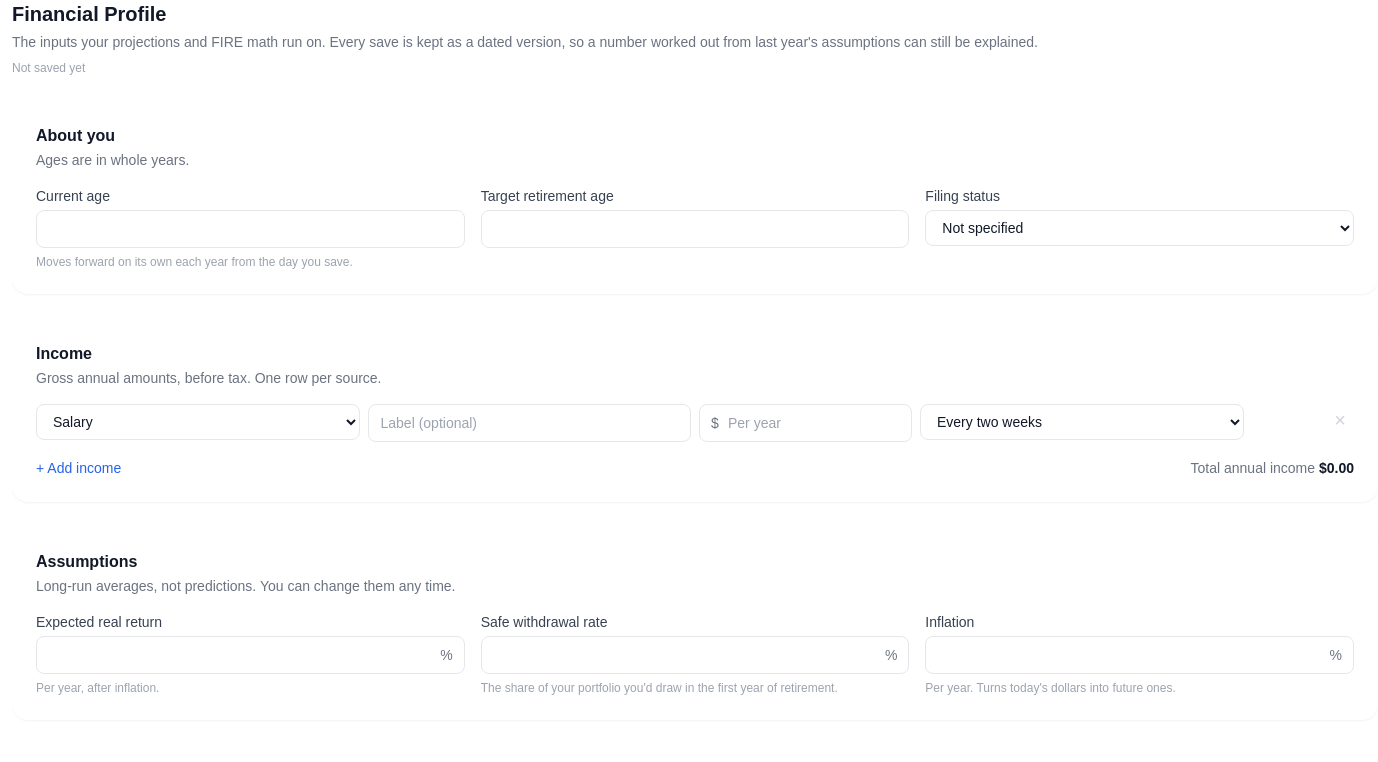
FinancialProfileClient — before the first save › sends the parsed profile and reports the new version
Type "34" into the field labelled "Current age" at (250, 229), box [36,210,465,248]
Type "50" into the field labelled "Target retirement age" at (695, 229), box [481,210,909,248]
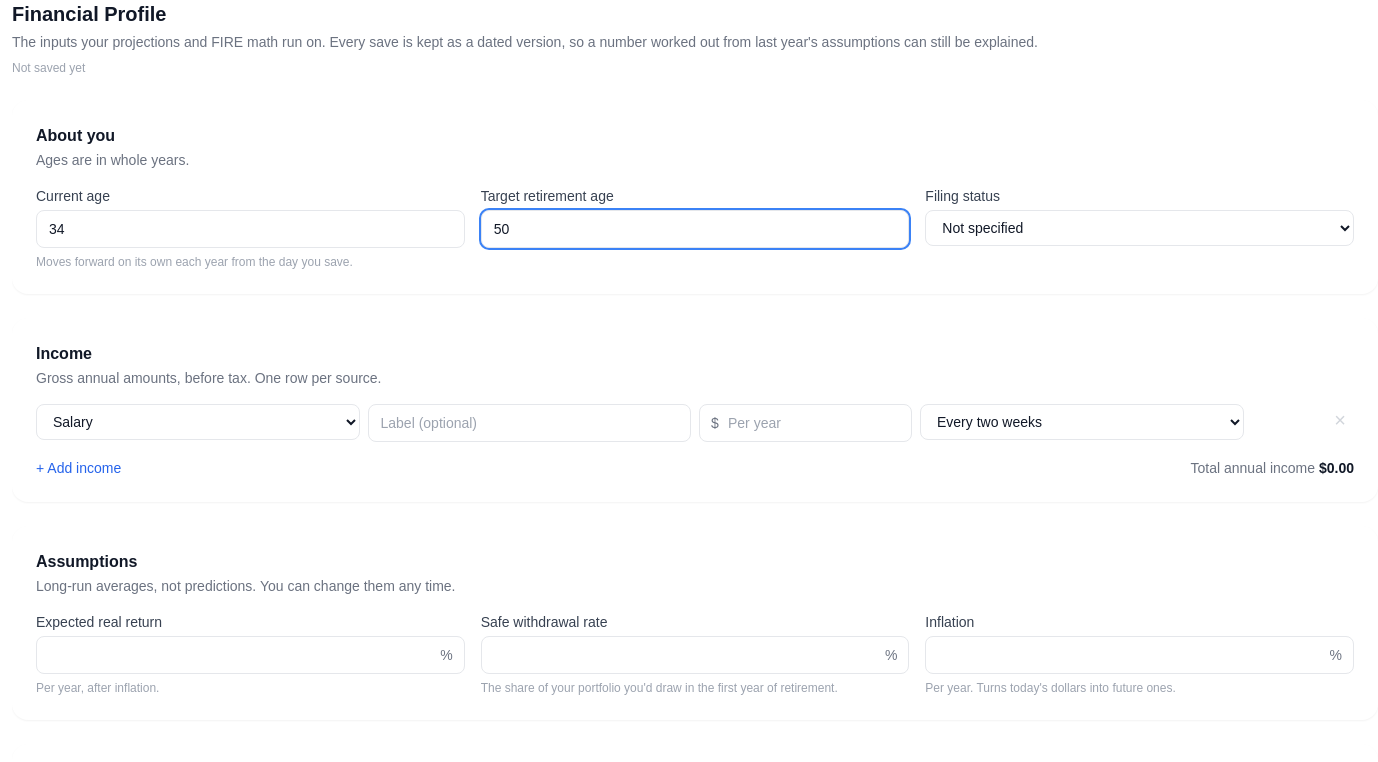
Type "5" into the field labelled "Expected real return" at (250, 655), box [36,636,465,674]
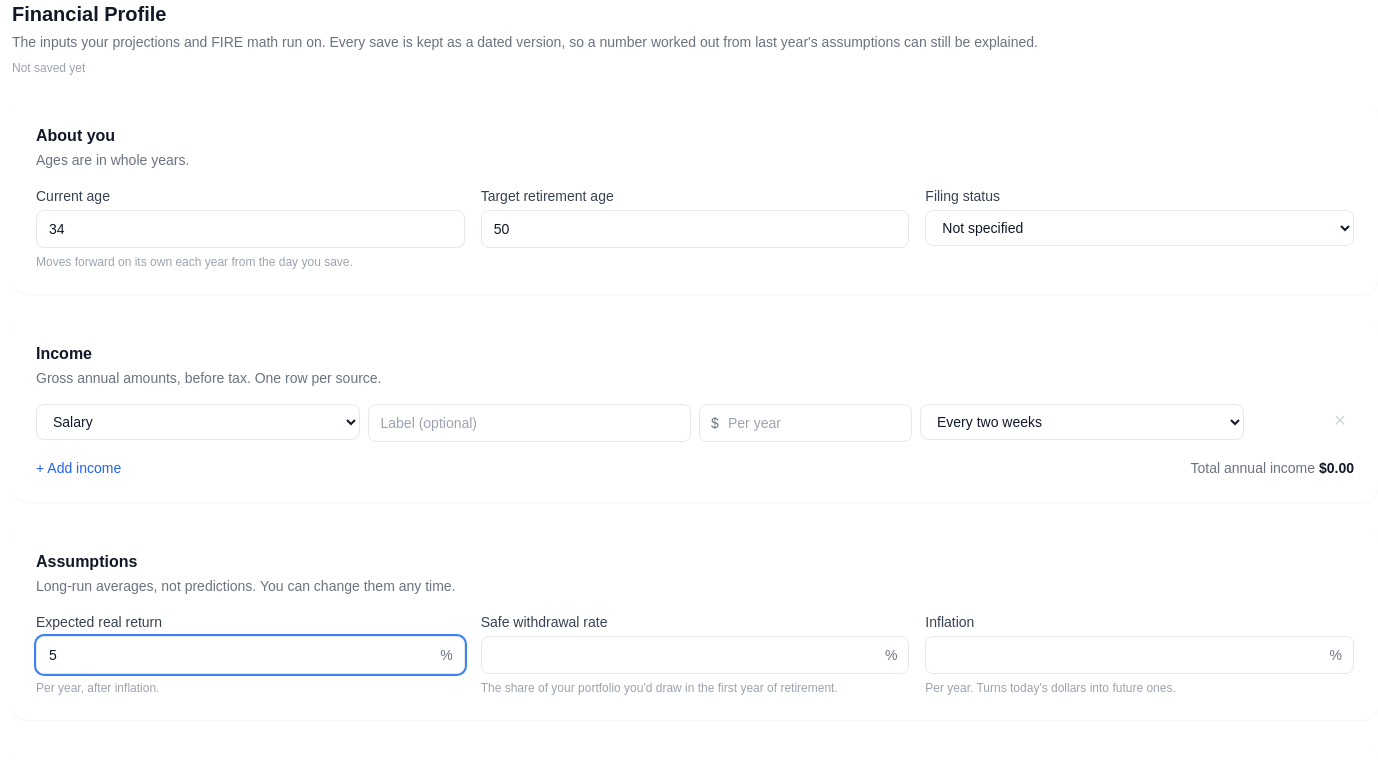
Type "3.5" into the field labelled "Safe withdrawal rate" at (695, 655), box [481,636,909,674]
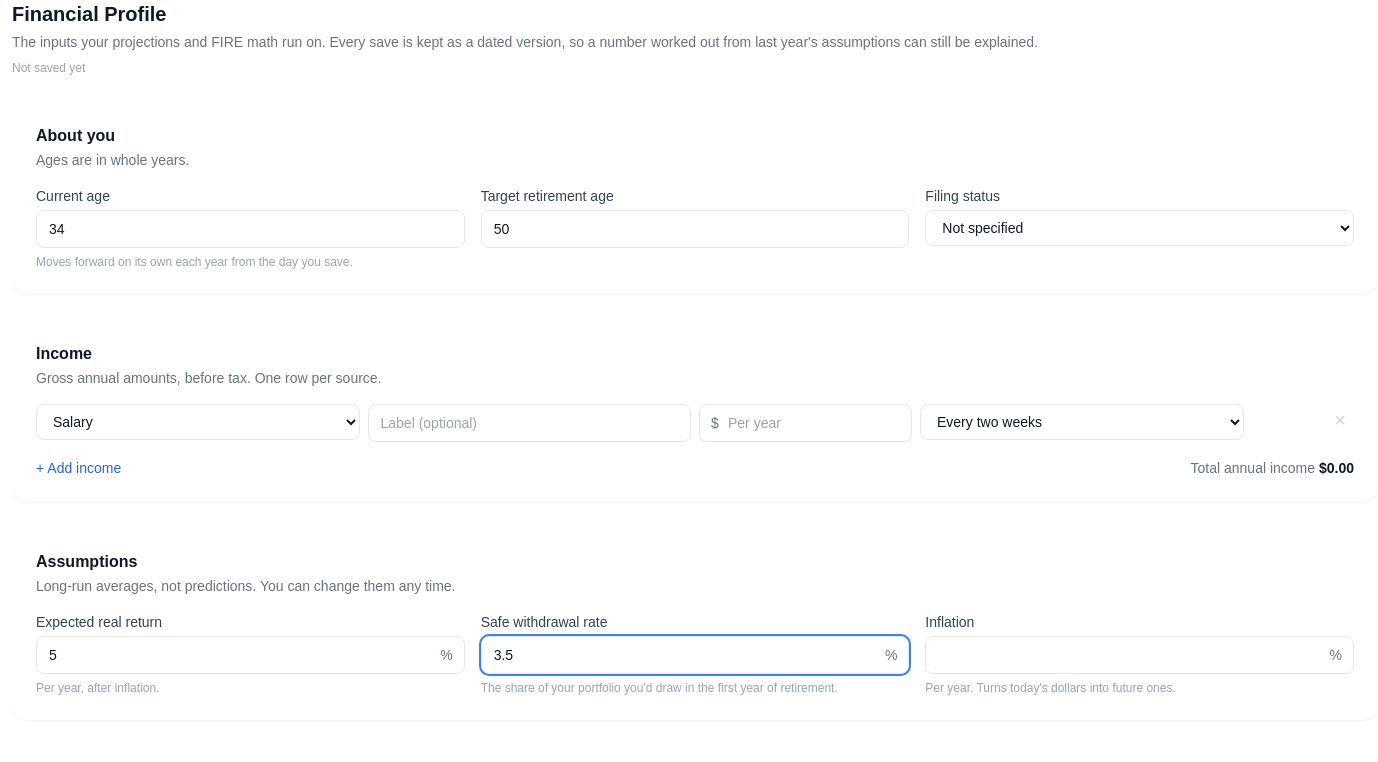
Type "2.5" into the field labelled "Inflation" at (1140, 655), box [925,636,1354,674]
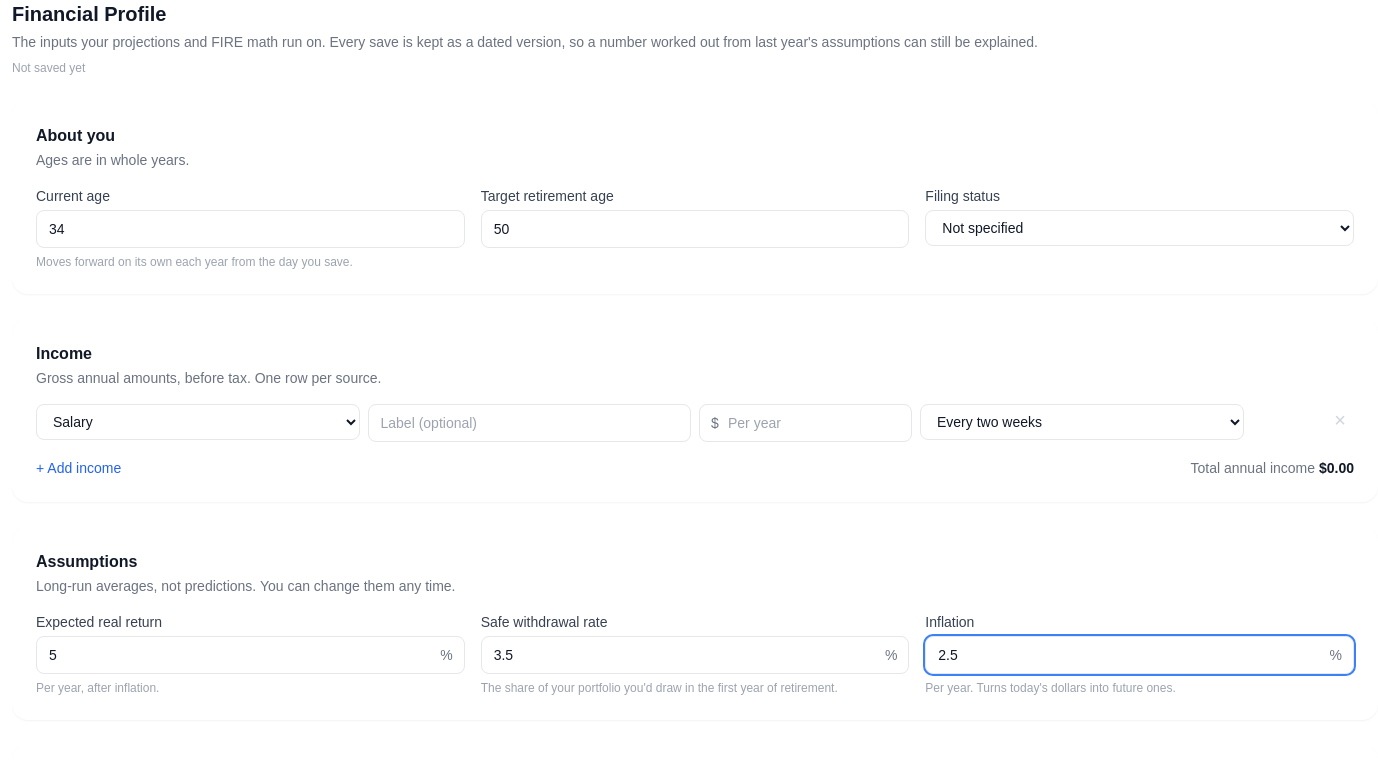
Type "90,000" into the field named "Income 1 annual amount" at (806, 423), box [699,404,912,442]
(page scrolled)
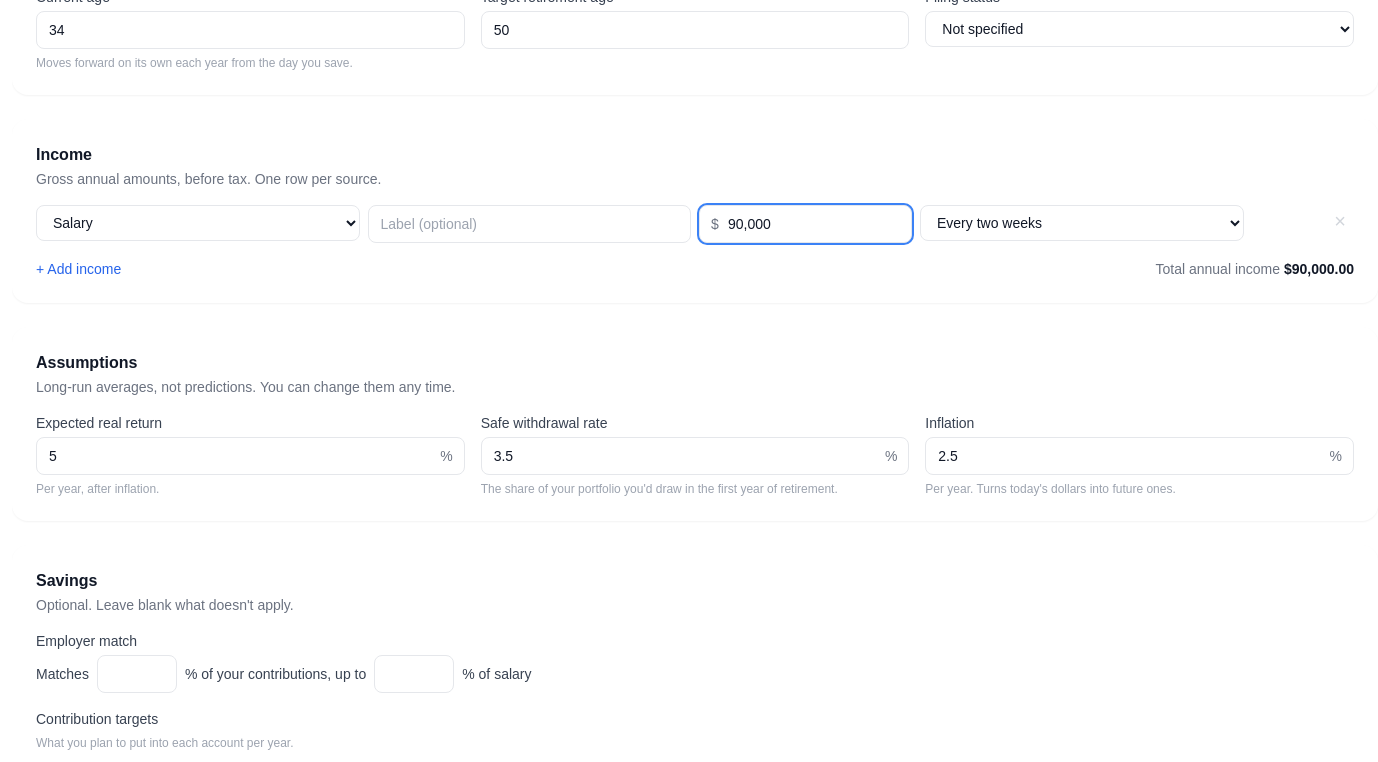
Submit the form named "Save profile"
(page scrolled)
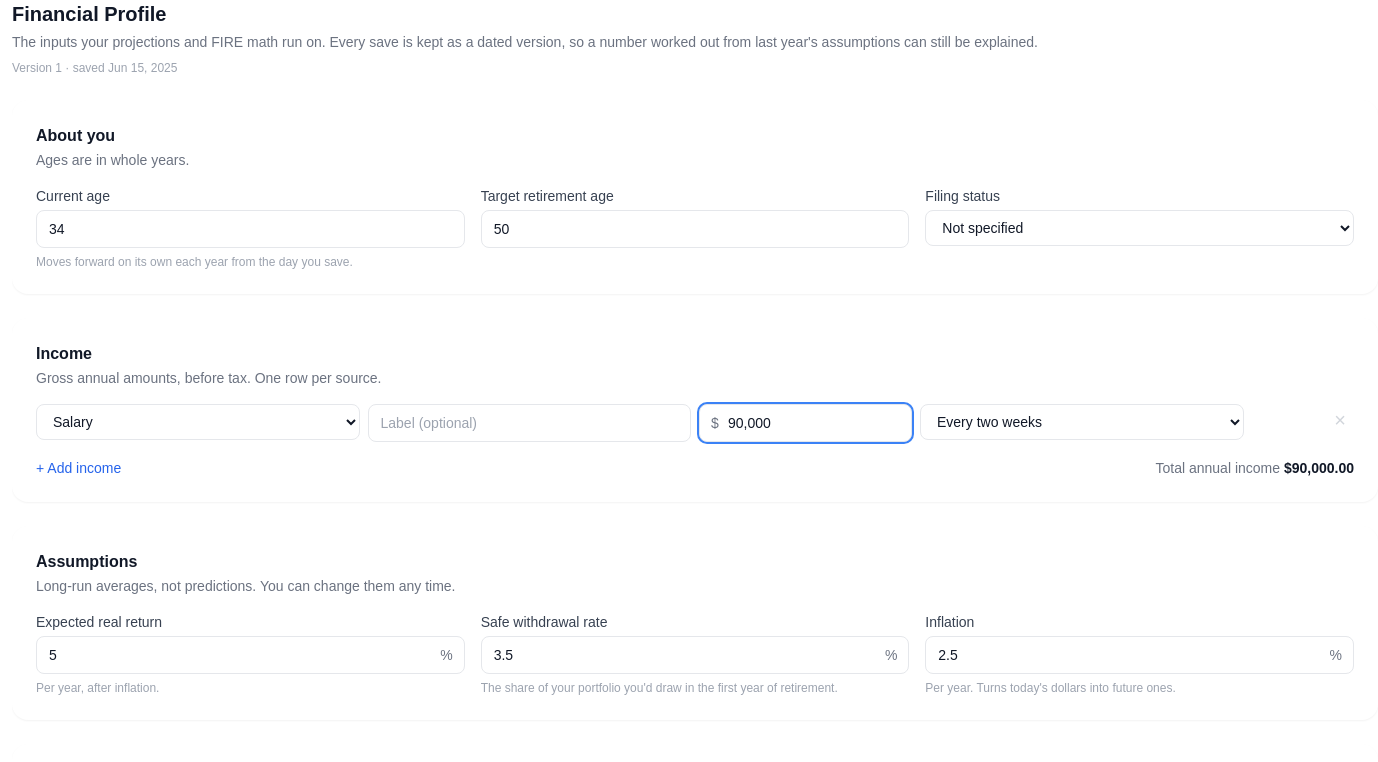
Check: the text "Version 1 · saved Jun 15, 2025" is shown, box [12,61,178,75]
